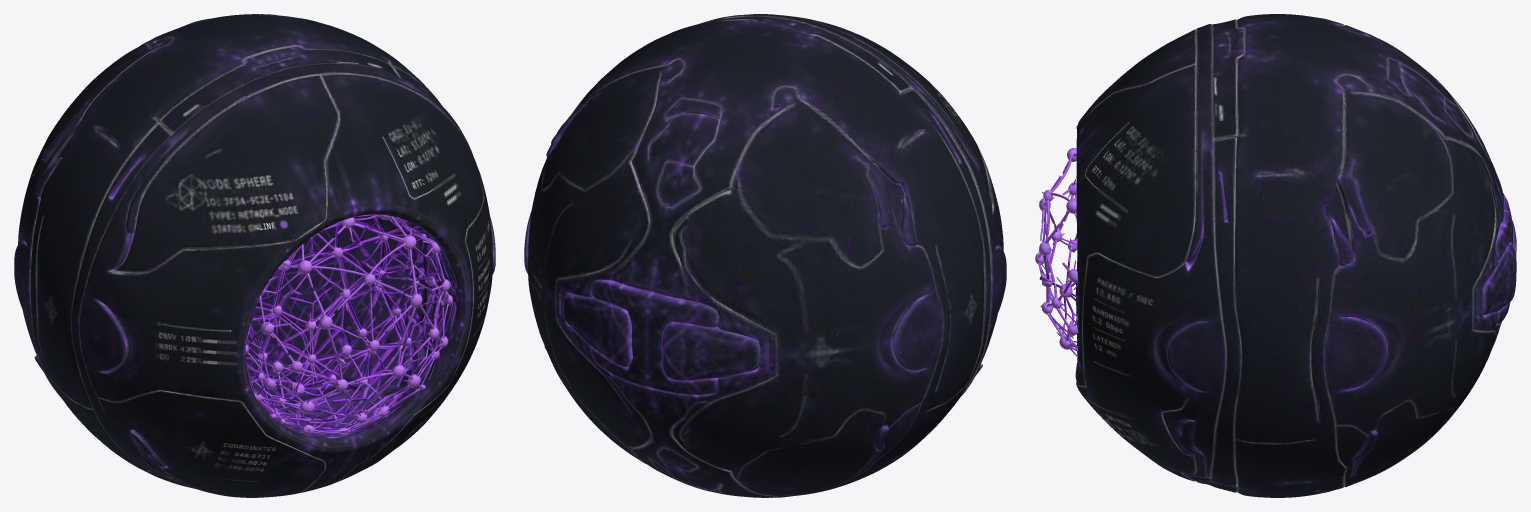
The model's file is balldigital.glb.
The picture shows the model from 3 angles, left to right: view 1: azimuth 30°, elevation 25°; view 2: azimuth 150°, elevation 25°; view 3: azimuth 270°, elevation 25°; orthographic projection.
Bounding box in the file's own units: 1.86 × 1.9 × 1.89.
Materials: 1 (1 with a texture image).
